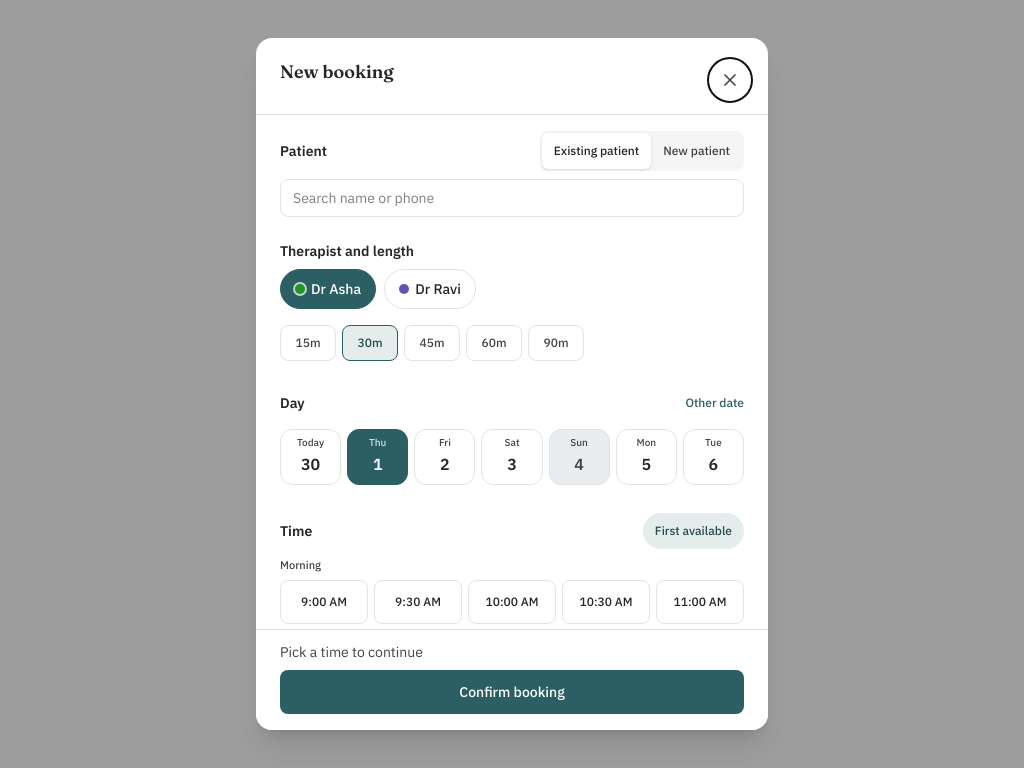
Test: BookSlotSheet › summarises the choice above the submit button
This screenshot has width=1024, height=768.
Check: the text "Pick a time to continue" is shown, box left=280, top=643, right=423, bottom=661
Click the button "10:30 AM" at [606, 602], box left=562, top=580, right=650, bottom=624
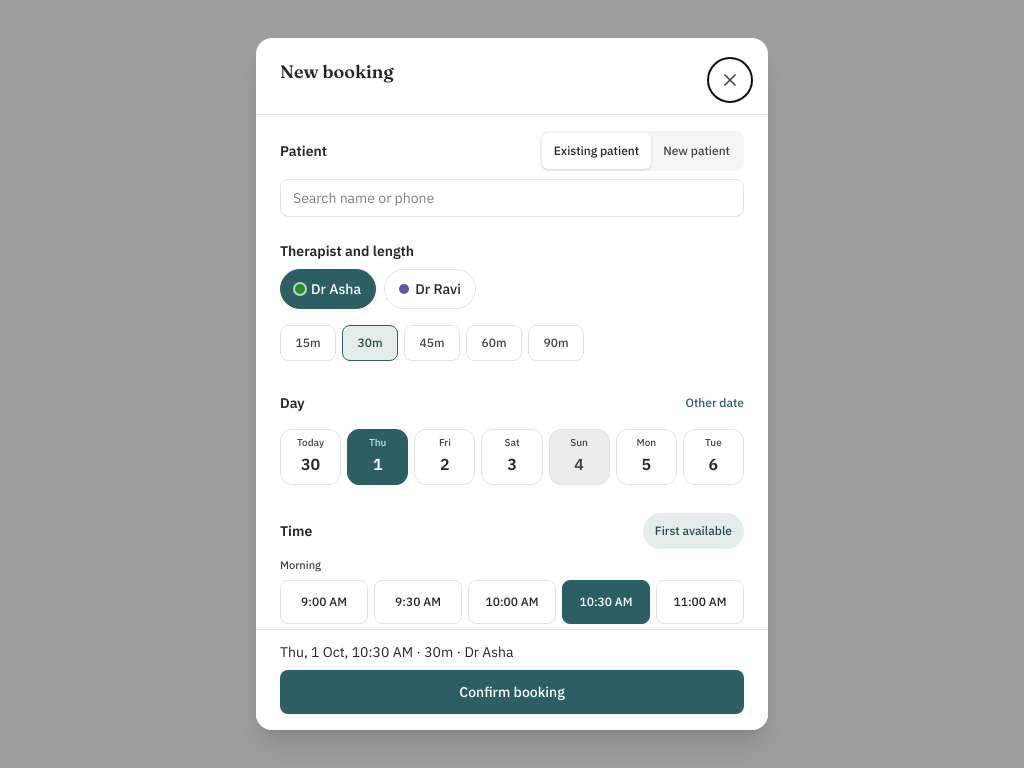
Check: the button "Confirm booking" is enabled, box left=280, top=670, right=744, bottom=714
Check: the text "Thu, 1 Oct, 10:30 AM · 30m · Dr Asha" is shown, box left=280, top=643, right=514, bottom=661
